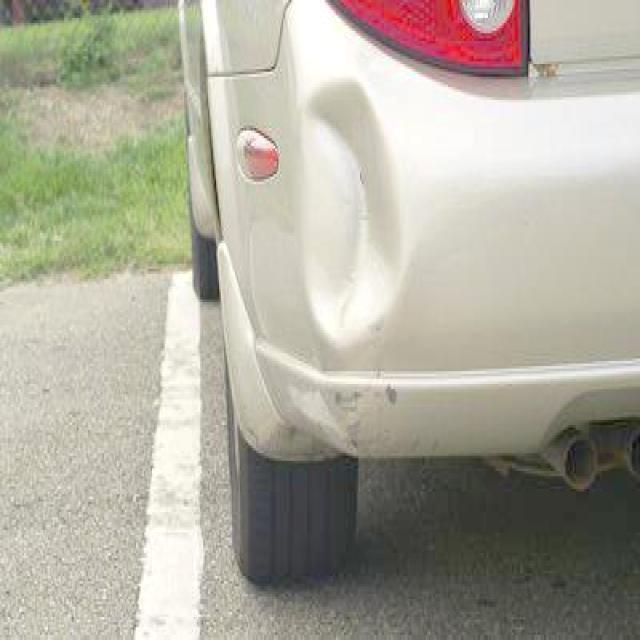minor: (285, 50, 425, 365)
moderate: (310, 386, 400, 458)
